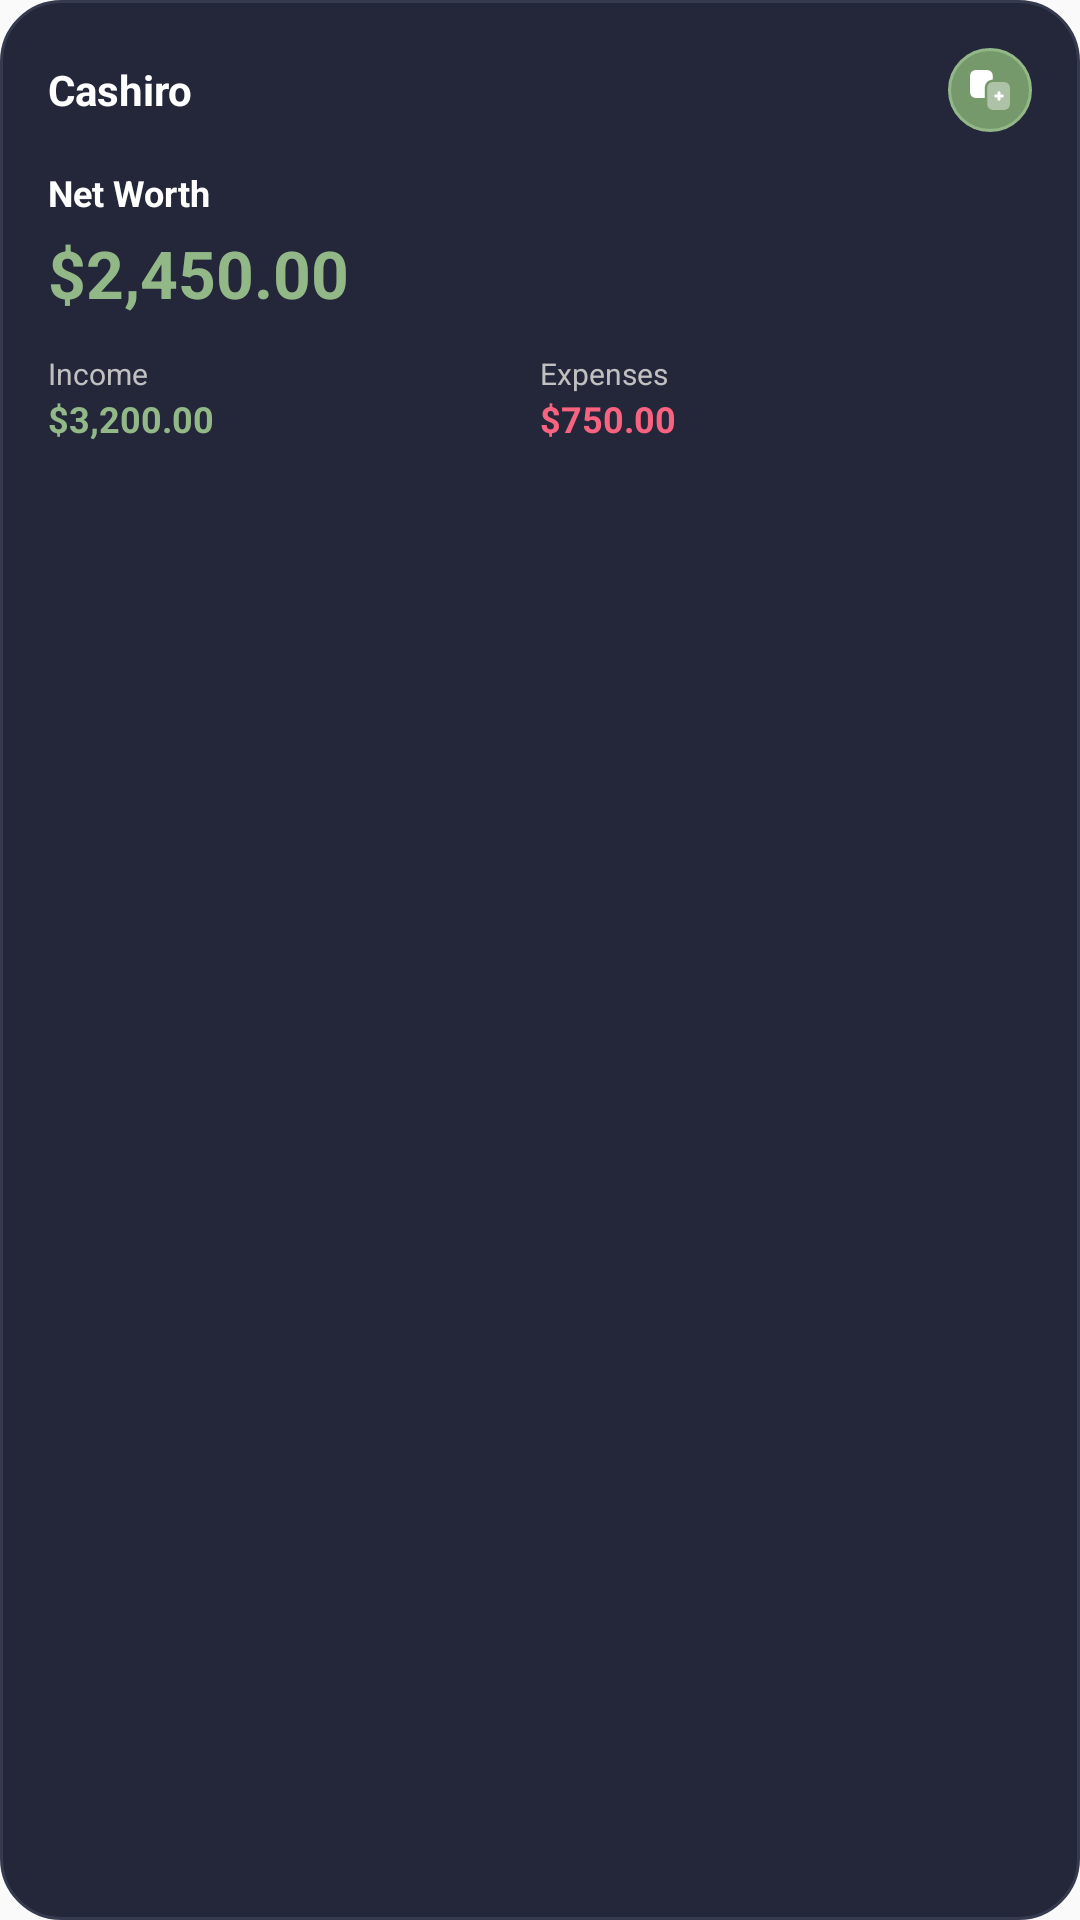

Icon click points for this 1080*1920 phone screenshot, format (x,y):
Add Transaction: (990,90)
